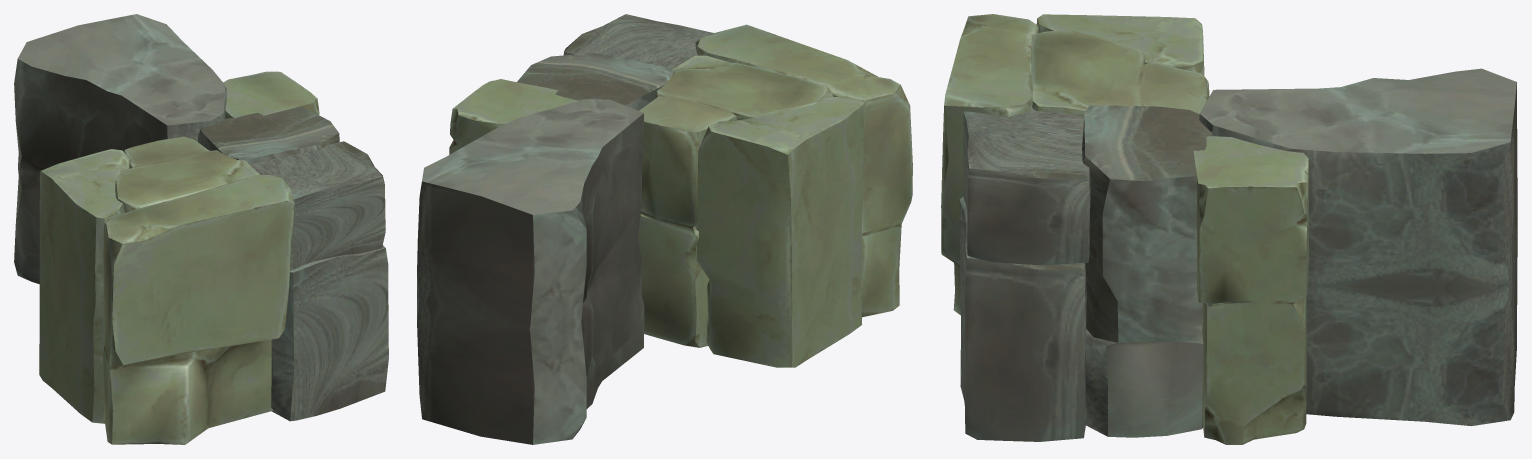
Rendered from Ruins_Wall_DMG_Edge_Right_A.fbx.
The picture shows the model from 3 angles, left to right: view 1: azimuth 30°, elevation 25°; view 2: azimuth 150°, elevation 25°; view 3: azimuth 270°, elevation 25°; orthographic projection. The views are drawn at different scales.
Visible parts, largest first — view 1: Ruins_Wall_DMG_Edge_Right_A; view 2: Ruins_Wall_DMG_Edge_Right_A; view 3: Ruins_Wall_DMG_Edge_Right_A.
Part boxes in pixels (x1,y1,x2,y2): Ruins_Wall_DMG_Edge_Right_A: [14, 14, 388, 444]; Ruins_Wall_DMG_Edge_Right_A: [417, 14, 912, 444]; Ruins_Wall_DMG_Edge_Right_A: [941, 14, 1517, 444].
Size of the model in its own units: 396 by 290 by 529.
